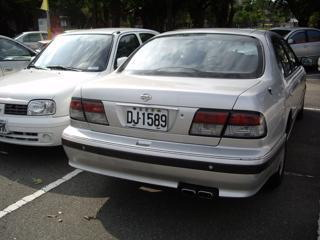plate: (123, 104, 169, 134)
